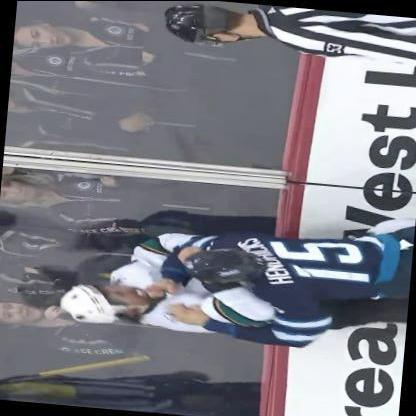non-Voilence: (157, 1, 415, 74), (12, 2, 204, 86)
voilence: (59, 198, 414, 354)
